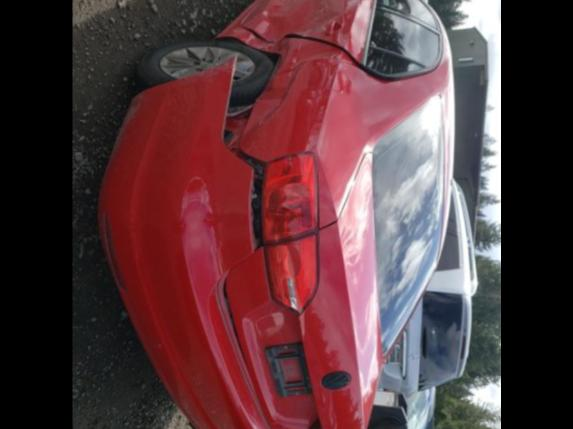Broken part: (227, 22, 437, 85), (215, 50, 270, 262), (218, 284, 246, 368)
Dent: (227, 0, 352, 118), (305, 63, 349, 147)
Flaking: (176, 170, 226, 326)
Missing part: (268, 343, 313, 395)
Scratch: (286, 54, 351, 78), (233, 29, 286, 52), (255, 17, 271, 34)
